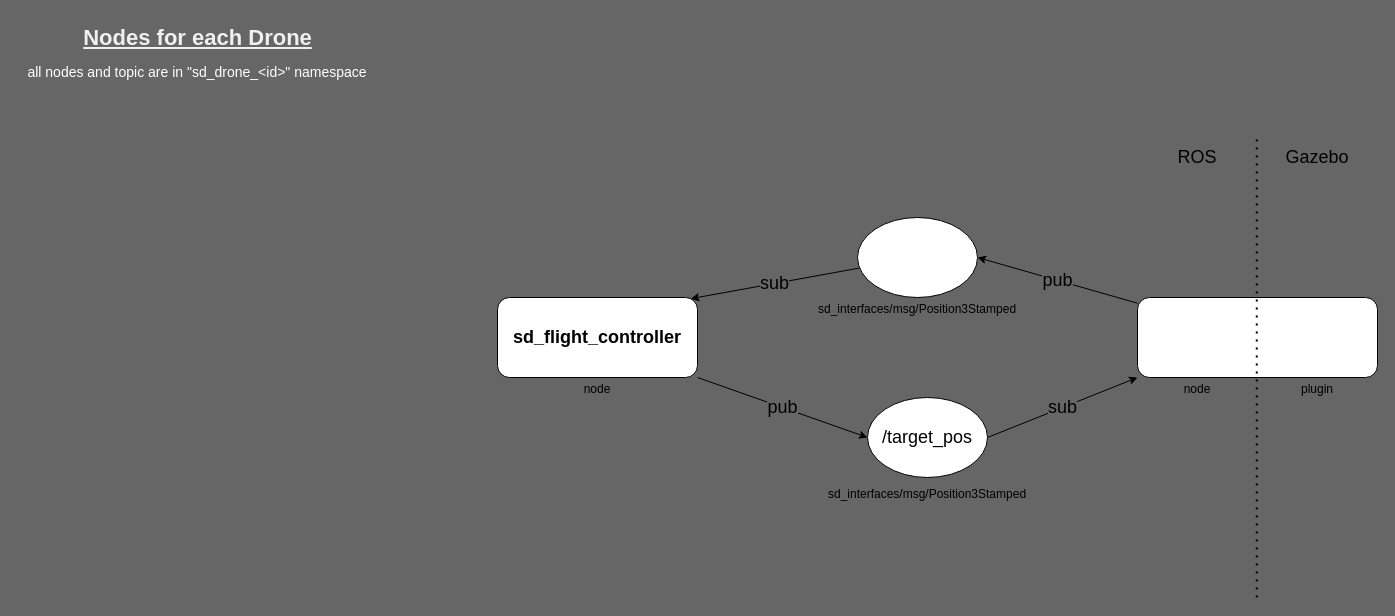
The diagram is 1395 pixels wide and 616 high, and some of its shapes have lost their labels. Each missing label, with the box of its shape:
/pos: (856, 216, 978, 298)
sd_drone_plugin: (1136, 296, 1378, 378)
